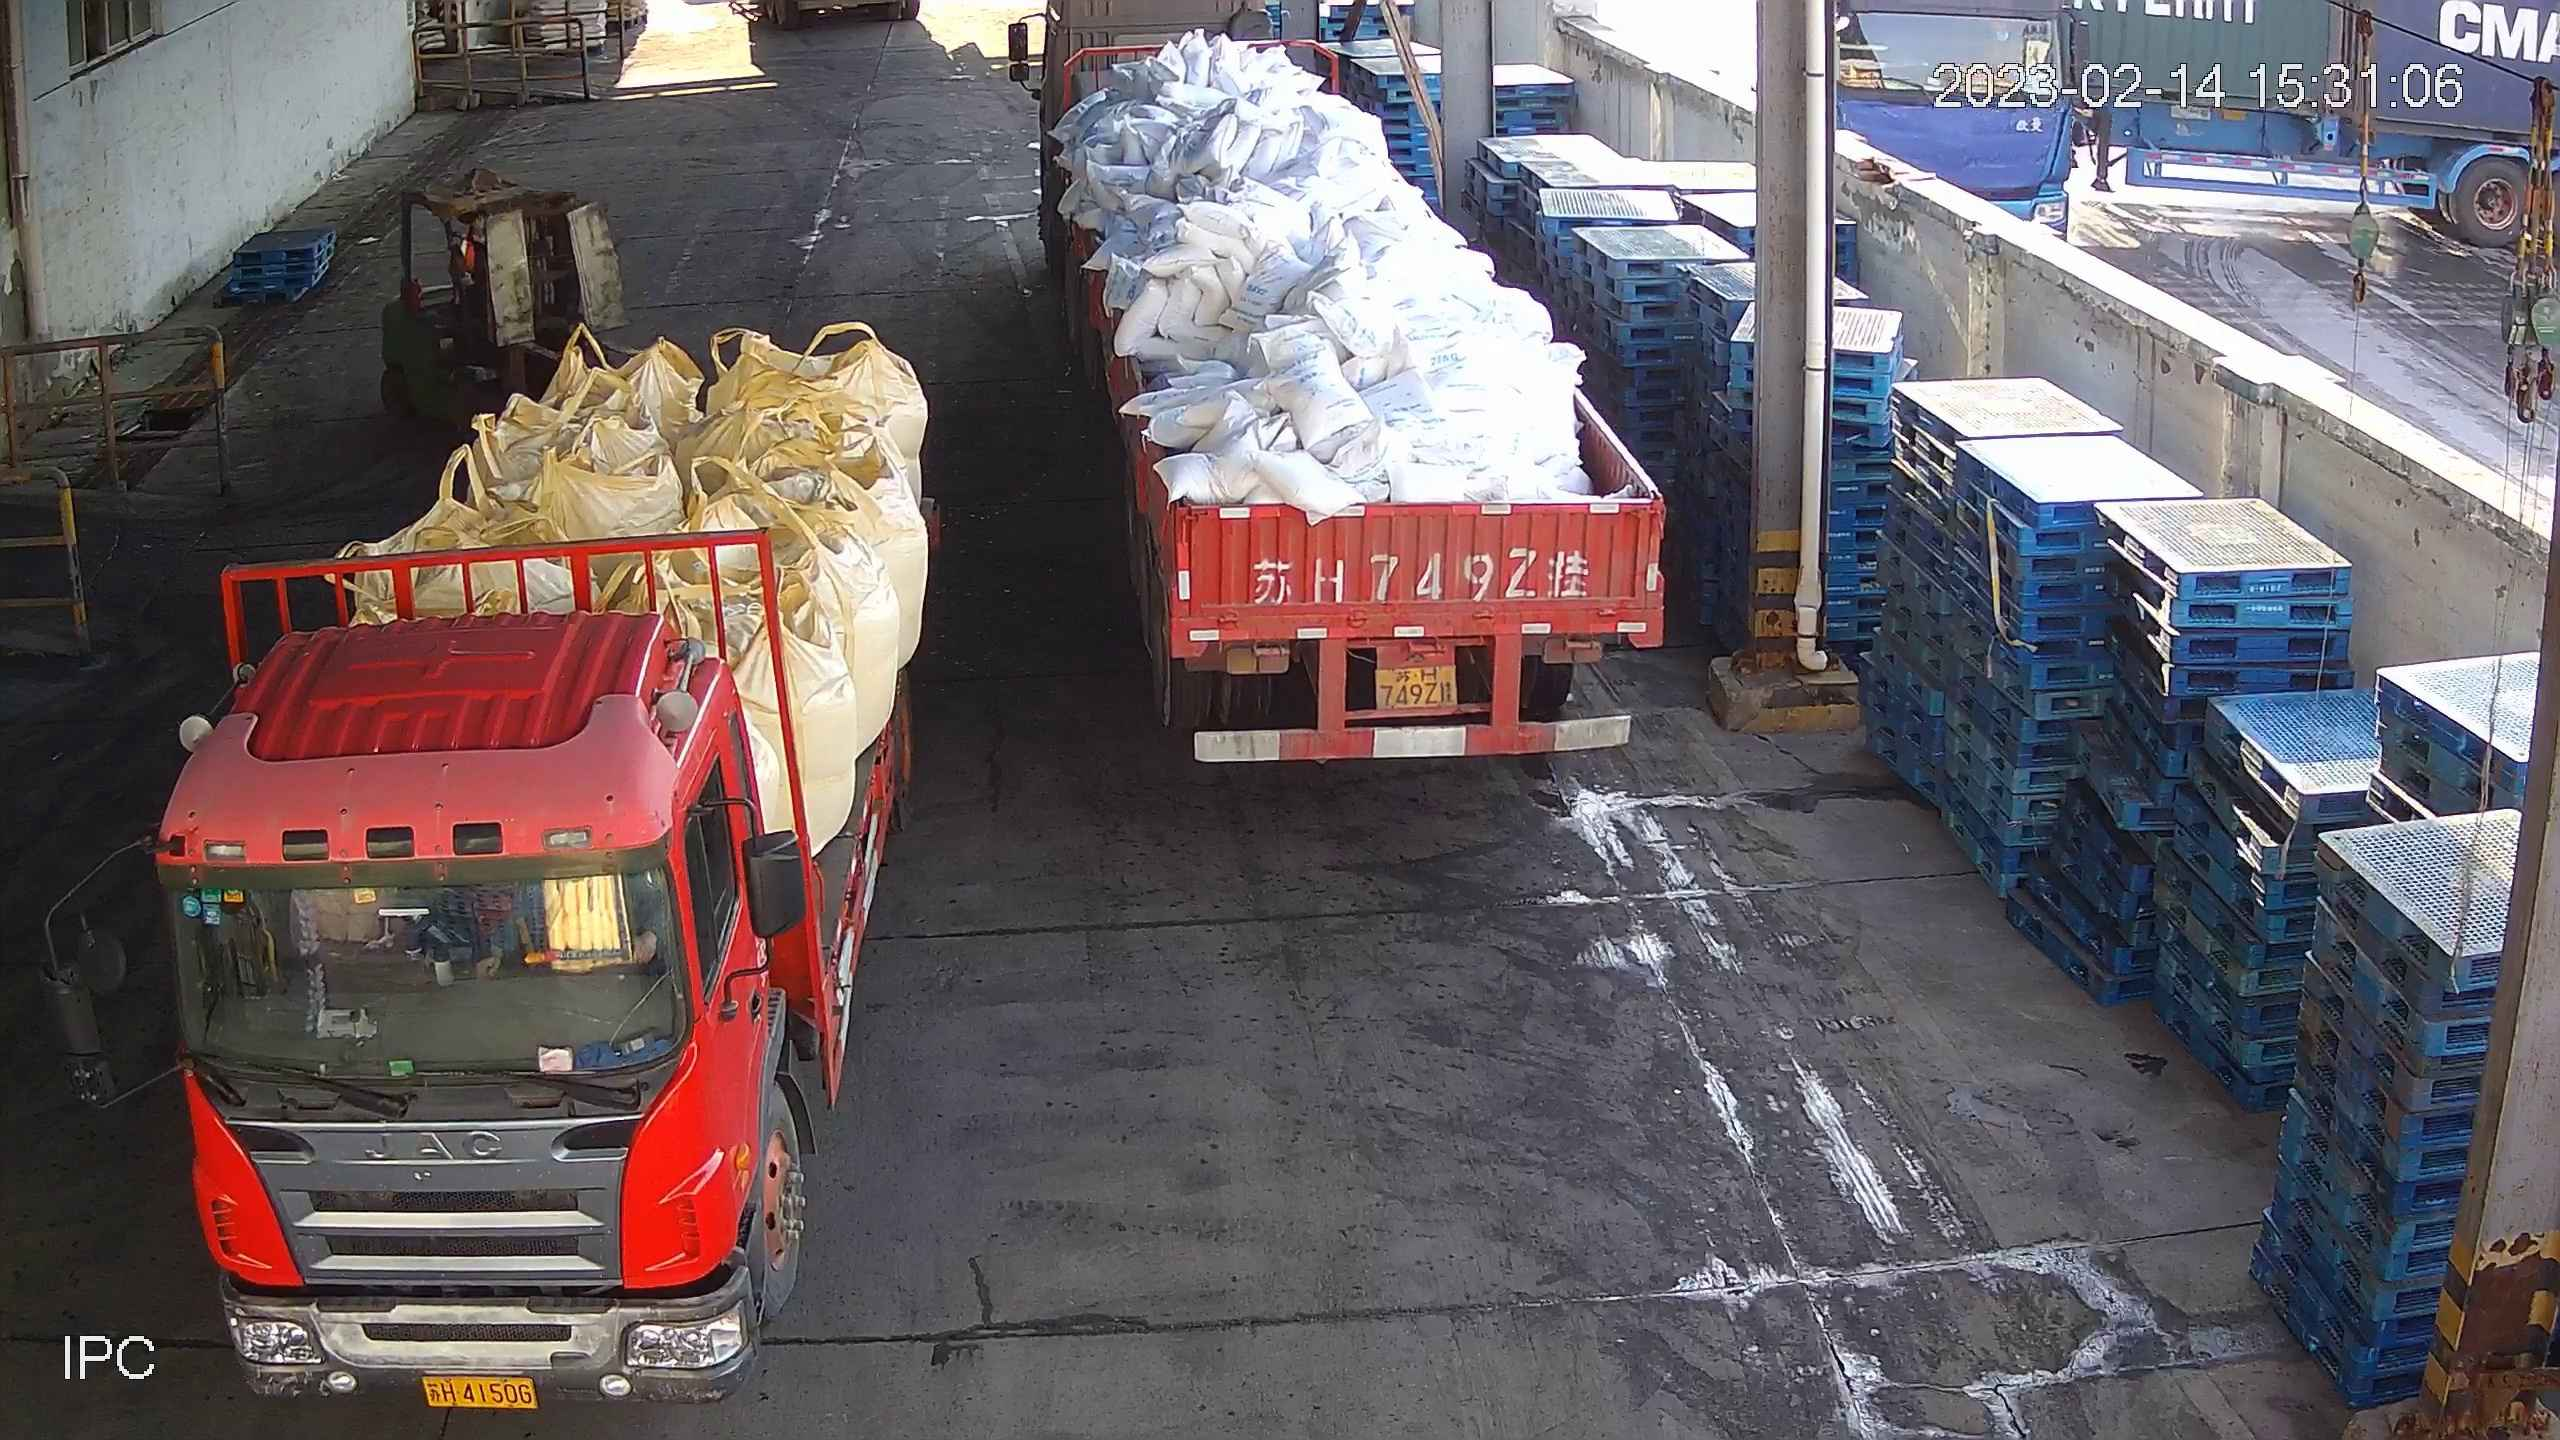truck: (35, 492, 955, 1412), (1006, 4, 1670, 765)
